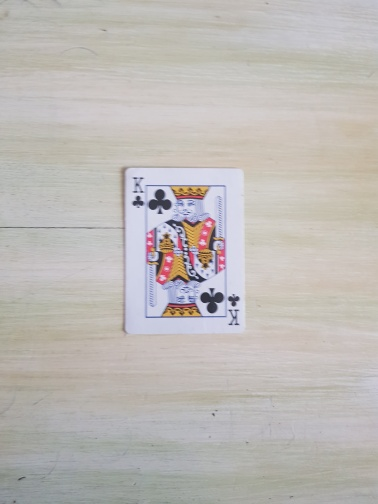king: (125, 167, 246, 335)
